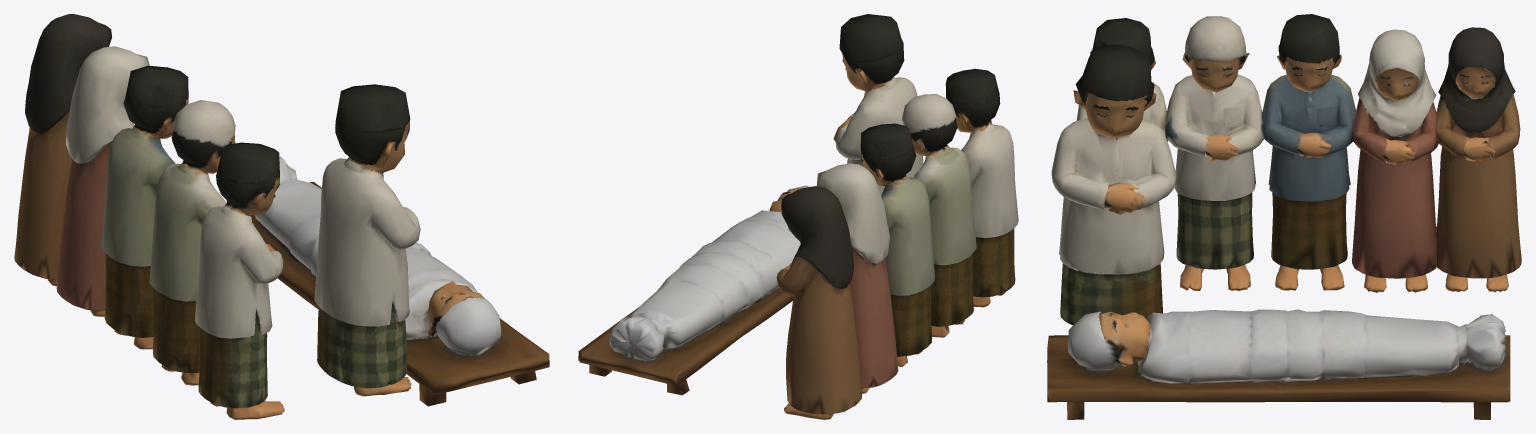
File: Tausug3-512(10k).glb
The picture shows the model from 3 angles, left to right: view 1: azimuth 30°, elevation 25°; view 2: azimuth 150°, elevation 25°; view 3: azimuth 270°, elevation 25°; orthographic projection. The views are drawn at different scales.
Visible parts, largest first — view 1: tripo_node_7a1cbf18-67c9-4053-b927-3a1a0b4713a4; view 2: tripo_node_7a1cbf18-67c9-4053-b927-3a1a0b4713a4; view 3: tripo_node_7a1cbf18-67c9-4053-b927-3a1a0b4713a4.
Part boxes in pixels (<box>): tripo_node_7a1cbf18-67c9-4053-b927-3a1a0b4713a4: <box>14,14,549,419</box>; tripo_node_7a1cbf18-67c9-4053-b927-3a1a0b4713a4: <box>578,14,1018,419</box>; tripo_node_7a1cbf18-67c9-4053-b927-3a1a0b4713a4: <box>1047,14,1521,419</box>.
Size of the model in its own units: 0.7234 by 0.6793 by 0.9798.
Materials: 1 (1 with a texture image).
